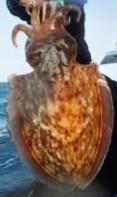Cephalopod: (8, 0, 113, 188)
